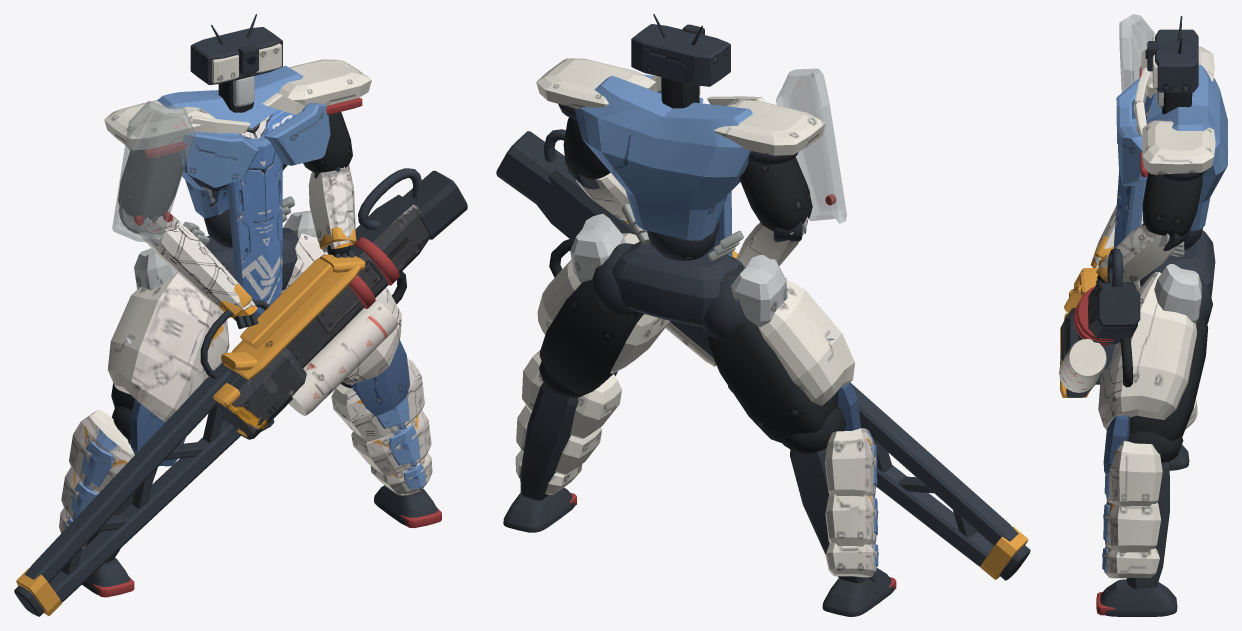
The model's file is compare-nine-palisade-v1.glb.
3 views of the same model, side by side, from view 1: azimuth 30°, elevation 25°; view 2: azimuth 150°, elevation 25°; view 3: azimuth 270°, elevation 25° (orthographic). The views are drawn at different scales.
Visible parts, largest first — view 1: White thigh cuisse, Translucent shoulder shield, Long pointed blue tabard, Open lattice rail 2, Rear receiver, Open lattice rail, Tapered blue cuirass, White ventral reservoir, White forearm vambrace, Cast receiver shoulder, Flat shoulder cap, Braided upper arm (+31 smaller); view 2: Tapered blue cuirass, Quadriceps core, Floating pelvis, White thigh cuisse, Quadriceps core 2, Open lattice rail 2, Translucent shoulder shield, Horizontal sensor head, Long black shin 2, Flat shoulder cap, Braided upper arm, Rear receiver (+24 smaller); view 3: White thigh cuisse 2, Tapered blue cuirass, Flat shoulder cap 2, Segmented white greave 4, Braided upper arm 2, Horizontal sensor head, Quadriceps core 2, Segmented white greave 5, Narrow divided foot 2, White forearm vambrace 2, White hip wing 2, White ventral reservoir (+26 smaller).
Boxes of the visible parts, <box> form: White thigh cuisse: <box>107,272,229,421</box>; Translucent shoulder shield: <box>112,101,195,243</box>; Long pointed blue tabard: <box>227,136,282,317</box>; Open lattice rail 2: <box>24,365,233,582</box>; Rear receiver: <box>220,194,429,430</box>; Open lattice rail: <box>49,419,240,602</box>; Tapered blue cuirass: <box>156,65,303,218</box>; White ventral reservoir: <box>288,299,398,415</box>; White forearm vambrace: <box>122,209,257,316</box>; Cast receiver shoulder: <box>215,347,306,439</box>; Flat shoulder cap: <box>104,100,215,149</box>; Braided upper arm: <box>118,151,183,219</box>; Tapered blue cuirass: <box>574,75,752,240</box>; Quadriceps core: <box>707,318,838,443</box>; Floating pelvis: <box>612,241,744,326</box>; White thigh cuisse: <box>758,279,854,406</box>; Quadriceps core 2: <box>539,279,641,394</box>; Open lattice rail 2: <box>851,383,1018,545</box>; Translucent shoulder shield: <box>776,68,846,223</box>; Horizontal sensor head: <box>631,24,730,86</box>; Long black shin 2: <box>520,382,578,500</box>; Flat shoulder cap: <box>714,99,825,155</box>; Braided upper arm: <box>739,157,812,231</box>; Rear receiver: <box>536,160,712,357</box>; White thigh cuisse 2: <box>1098,272,1196,429</box>; Tapered blue cuirass: <box>1136,65,1227,230</box>; Flat shoulder cap 2: <box>1142,120,1215,174</box>; Segmented white greave 4: <box>1106,440,1162,506</box>; Braided upper arm 2: <box>1142,172,1202,236</box>; Horizontal sensor head: <box>1155,29,1198,92</box>; Quadriceps core 2: <box>1129,311,1208,440</box>; Segmented white greave 5: <box>1103,501,1160,552</box>; Narrow divided foot 2: <box>1100,579,1177,616</box>; White forearm vambrace 2: <box>1096,224,1176,283</box>; White hip wing 2: <box>1154,264,1201,323</box>; White ventral reservoir: <box>1059,339,1106,392</box>.
Size of the model in its own units: 3.56 by 3.77 by 1.13.
2 materials, 2 textured.
